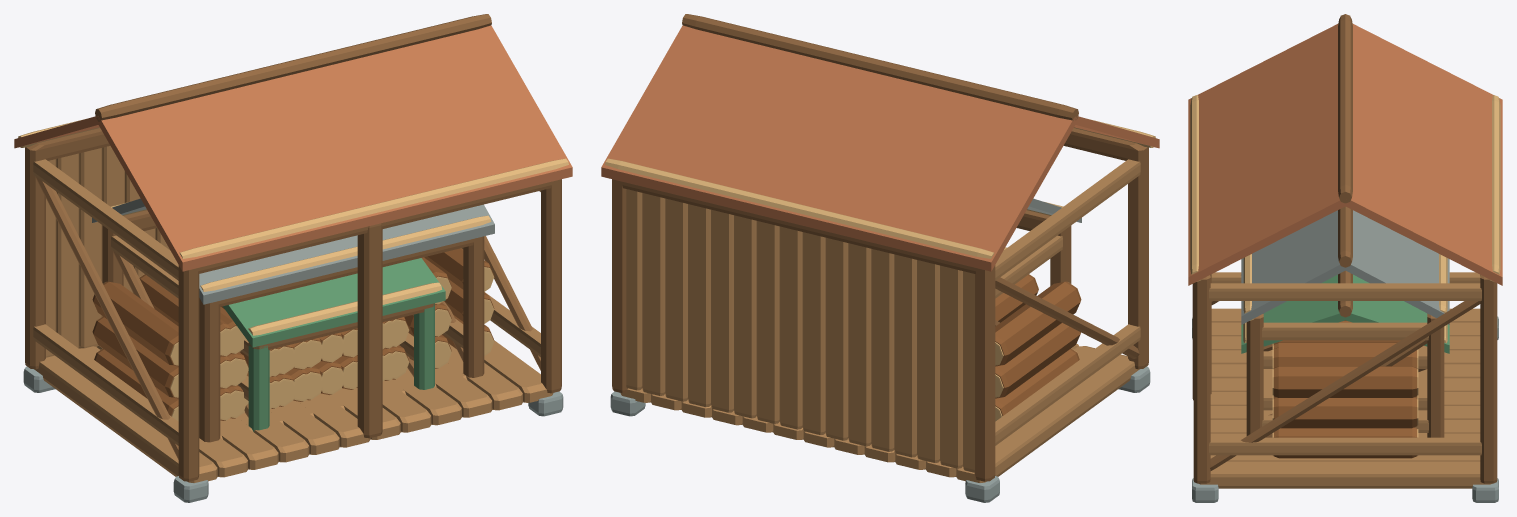
Rendered from wood-storage.glb.
3 views of the same model, side by side, from view 1: azimuth 30°, elevation 25°; view 2: azimuth 150°, elevation 25°; view 3: azimuth 270°, elevation 25° (orthographic). The views are drawn at different scales.
Parts seen in each view (by area): view 1: WST_Export_WST_wood_store_200_complete, WST_Export_WST_wood_store_100_complete, WST_Export_WST_wood_store_50_complete; view 2: WST_Export_WST_wood_store_200_complete, WST_Export_WST_wood_store_100_complete; view 3: WST_Export_WST_wood_store_200_complete, WST_Export_WST_wood_store_100_complete, WST_Export_WST_wood_store_50_complete.
Part boxes in pixels (box(x1,y1,x2,y2)): WST_Export_WST_wood_store_200_complete: box(14, 14, 572, 502); WST_Export_WST_wood_store_100_complete: box(92, 198, 494, 442); WST_Export_WST_wood_store_50_complete: box(223, 258, 445, 431); WST_Export_WST_wood_store_200_complete: box(601, 14, 1159, 502); WST_Export_WST_wood_store_100_complete: box(995, 198, 1081, 326); WST_Export_WST_wood_store_200_complete: box(1188, 14, 1502, 502); WST_Export_WST_wood_store_100_complete: box(1241, 206, 1449, 437); WST_Export_WST_wood_store_50_complete: box(1241, 270, 1449, 415).
Size of the model in its own units: 3.96 by 3.27 by 2.96.
